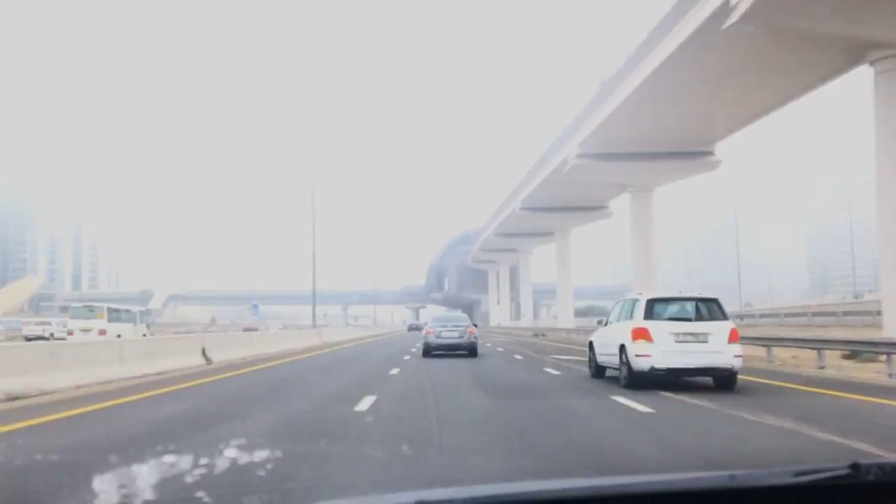bus: (62, 302, 155, 348)
car: (582, 291, 745, 395), (420, 312, 480, 357), (19, 315, 69, 342), (406, 319, 424, 334)
